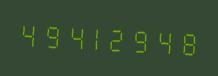eight: (178, 23, 200, 60)
four: (17, 15, 39, 52), (63, 17, 85, 54), (155, 22, 177, 59)
nine: (40, 16, 62, 53), (132, 21, 154, 58)
one: (86, 18, 108, 55)
two: (109, 20, 131, 57)
